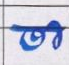i_matra: (49, 20, 60, 49)
